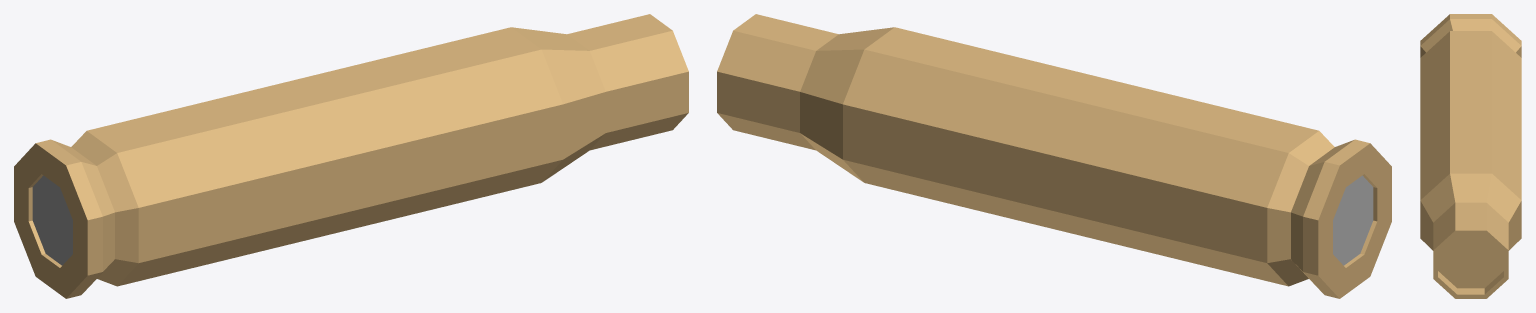
Rendered from Bullet_04_2.fbx.
3 renders of one model, left to right at view 1: azimuth 30°, elevation 25°; view 2: azimuth 150°, elevation 25°; view 3: azimuth 270°, elevation 25°, orthographic. The views are drawn at different scales.
Visible parts, largest first — view 1: Bullet_04_2; view 2: Bullet_04_2; view 3: Bullet_04_2.
Boxes of the visible parts, x1,y1,x2,y2 form: Bullet_04_2: [14, 14, 688, 298]; Bullet_04_2: [717, 14, 1391, 298]; Bullet_04_2: [1420, 14, 1521, 298].
Bounding box in the file's own units: 0.0476 × 0.00995 × 0.00995.
